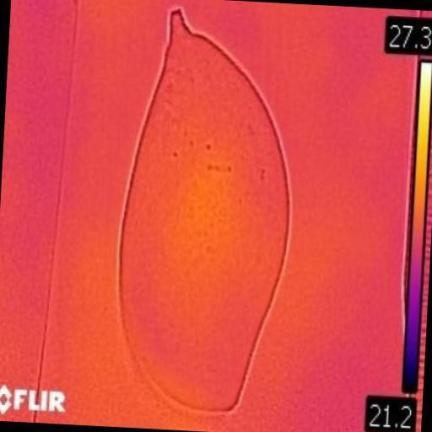mango: (120, 9, 289, 411)
